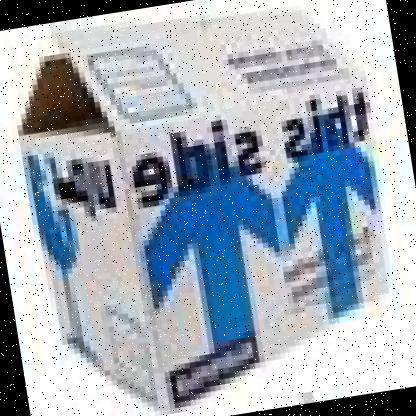box: (16, 9, 389, 416)
opened: (16, 10, 365, 138)
